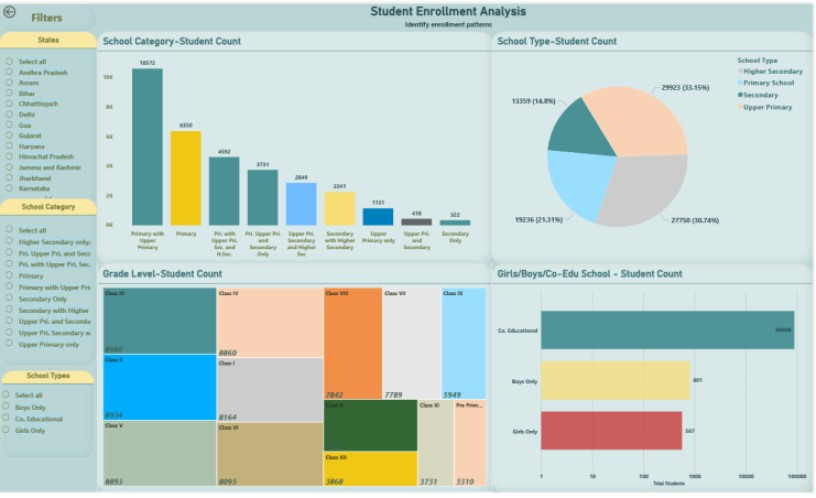

The dashboard page shown, as its layout file describes it:
{"tool":"powerbi","page":{"name":"Student Enrollment Analysis","canvas":[2000,1200],"ordinal":1},"visuals":[{"type":"columnChart","title":"School Category-Student Count","fields":{"Category":["Education_School_DataSet.School Category"],"Y":["Education_School_DataSet.Sum of students"]},"box":[240,68,972,572],"z":0},{"type":"pieChart","title":"School Type-Student Count","fields":{"Y":["select","Education_School_DataSet.Sum of students"],"Category":["Education_School_DataSet.School Type "]},"box":[1210,68,790,572],"z":1000},{"type":"clusteredBarChart","title":"Girls/Boys/Co-Edu School - Student Count","fields":{"Category":["Education_School_DataSet.School Type"],"Y":["Education_School_DataSet.Total Students (Distinct School)"]},"box":[1210,640,790,560],"z":2000},{"type":"listSlicer","title":"States","fields":{"Values":["Education_School_DataSet.State"]},"box":[0,68.6,240,434.3],"z":3000},{"type":"listSlicer","fields":{"Values":["Education_School_DataSet.School Category"]},"box":[0,478.6,240,412.9],"z":4000},{"type":"listSlicer","title":"School Types","fields":{"Values":["Education_School_DataSet.School Type"]},"box":[5.7,901.4,228.6,217.1],"z":5000},{"type":"textbox","box":[0,0,240,68.6],"z":6000},{"type":"textbox","title":"Student Enrollment Analysis","box":[240,0,1728.6,68.6],"z":7000},{"type":"treemap","title":"Grade Level-Student Count ","fields":{"Group":["Education_School_DataSet.Grade"],"Values":["Education_School_DataSet.Total Students"]},"box":[240,640,972,560],"z":8000},{"type":"actionButton","box":[5.7,0,100,40],"z":9000}]}

Visuals, with their boxes in screenshot pixels (x1, y1, x2, y2), scaled from the page's 2000x1200 canvas onto the 816x498 screenshot:
"School Category-Student Count" columnChart: [left=98, top=28, right=494, bottom=266]
"School Type-Student Count" pieChart: [left=494, top=28, right=815, bottom=266]
"Girls/Boys/Co-Edu School - Student Count" clusteredBarChart: [left=494, top=266, right=815, bottom=497]
"States" listSlicer: [left=0, top=28, right=98, bottom=209]
listSlicer - Education_School_DataSet.School Category: [left=0, top=199, right=98, bottom=370]
"School Types" listSlicer: [left=2, top=374, right=96, bottom=464]
textbox: [left=0, top=0, right=98, bottom=28]
"Student Enrollment Analysis" textbox: [left=98, top=0, right=803, bottom=28]
"Grade Level-Student Count " treemap: [left=98, top=266, right=494, bottom=497]
actionButton: [left=2, top=0, right=43, bottom=17]
